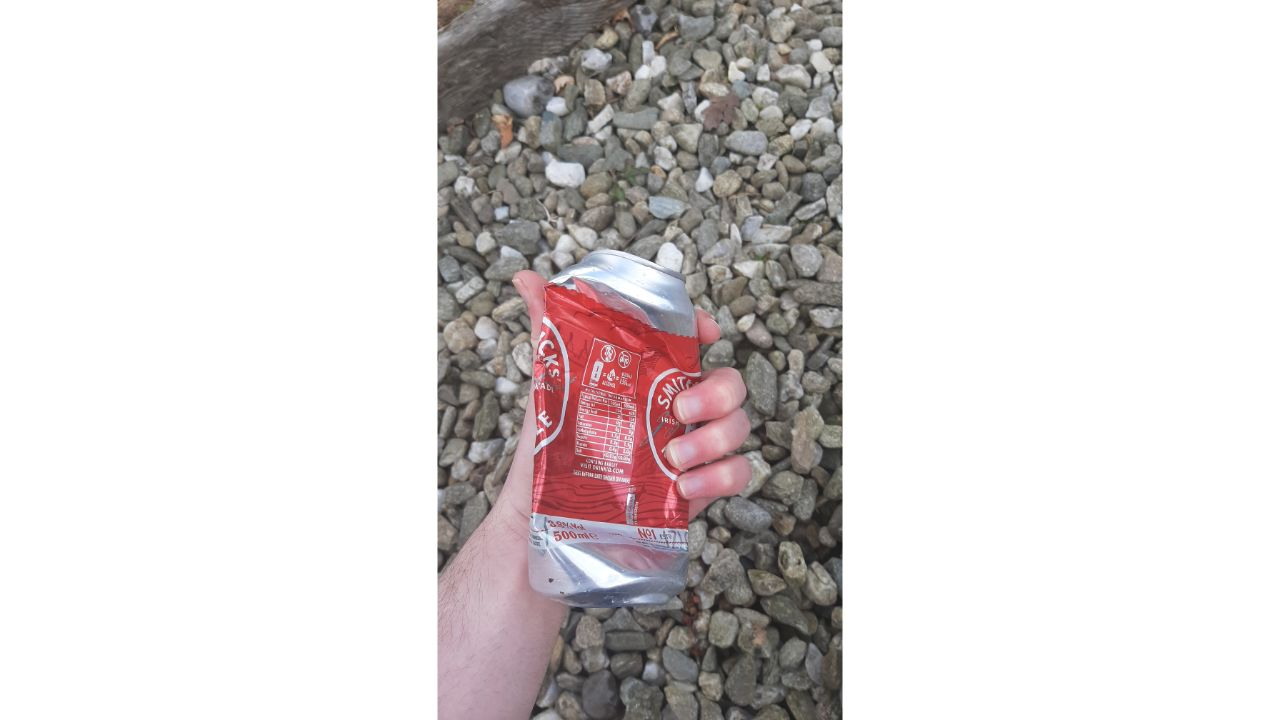Can: (515, 237, 717, 621)
